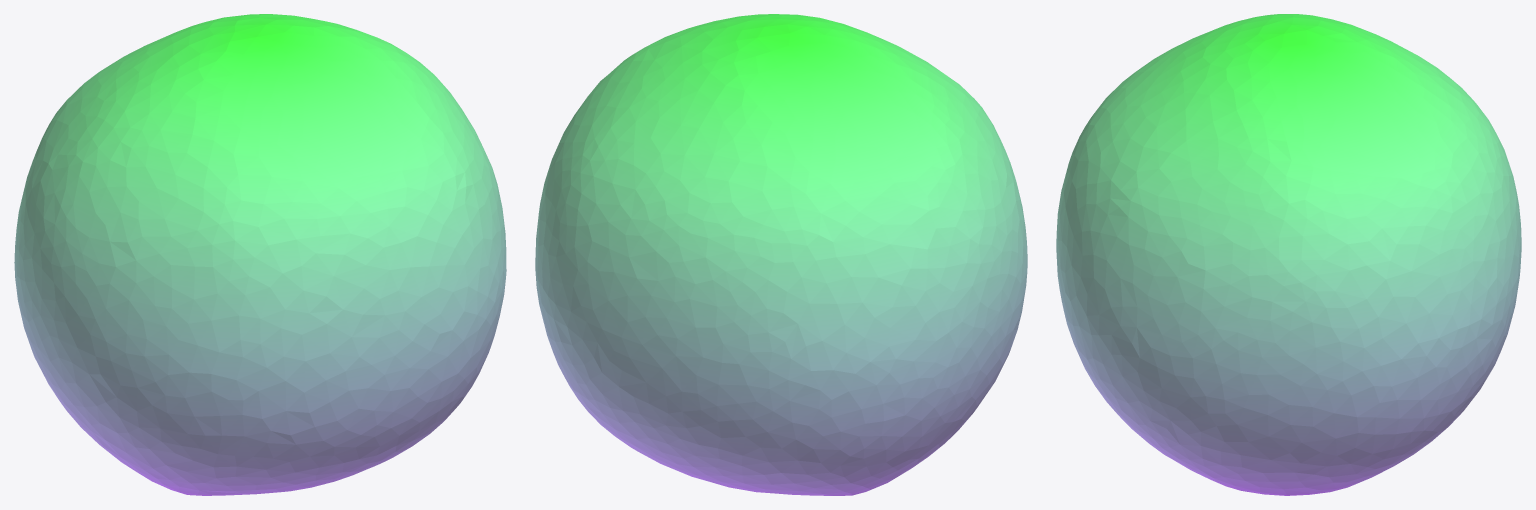
Rendered from 67_cyb_laser_gradient_fish_scales_2902_2026_10_03_fb6c77.glb.
The picture shows the model from 3 angles, left to right: view 1: azimuth 30°, elevation 25°; view 2: azimuth 150°, elevation 25°; view 3: azimuth 270°, elevation 25°; orthographic projection. The views are drawn at different scales.
Parts seen in each view (by area): view 1: geometry_0; view 2: geometry_0; view 3: geometry_0.
Part boxes in pixels (x1,y1,x2,y2): geometry_0: (14,14,506,495); geometry_0: (535,14,1027,495); geometry_0: (1056,14,1521,495).
Bounding box in the file's own units: 1 × 0.9833 × 0.9776.
